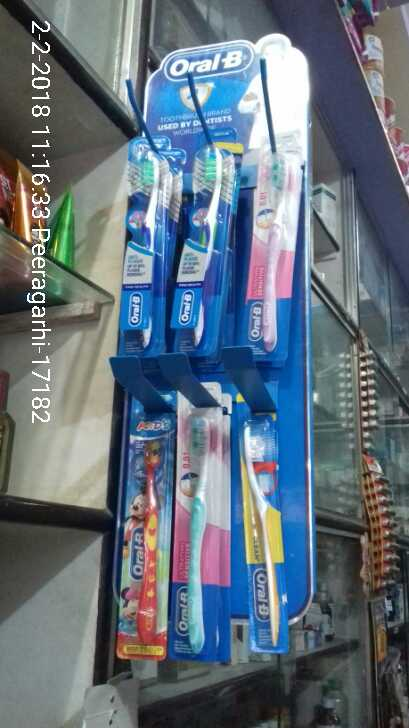oralb: (237, 404, 298, 655), (122, 436, 171, 650), (251, 150, 302, 349), (178, 153, 228, 345), (118, 147, 165, 347), (184, 408, 216, 642)
